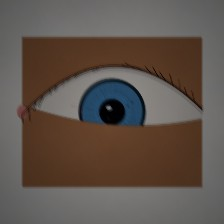hemorrhage_spot: (73, 85, 146, 144)
